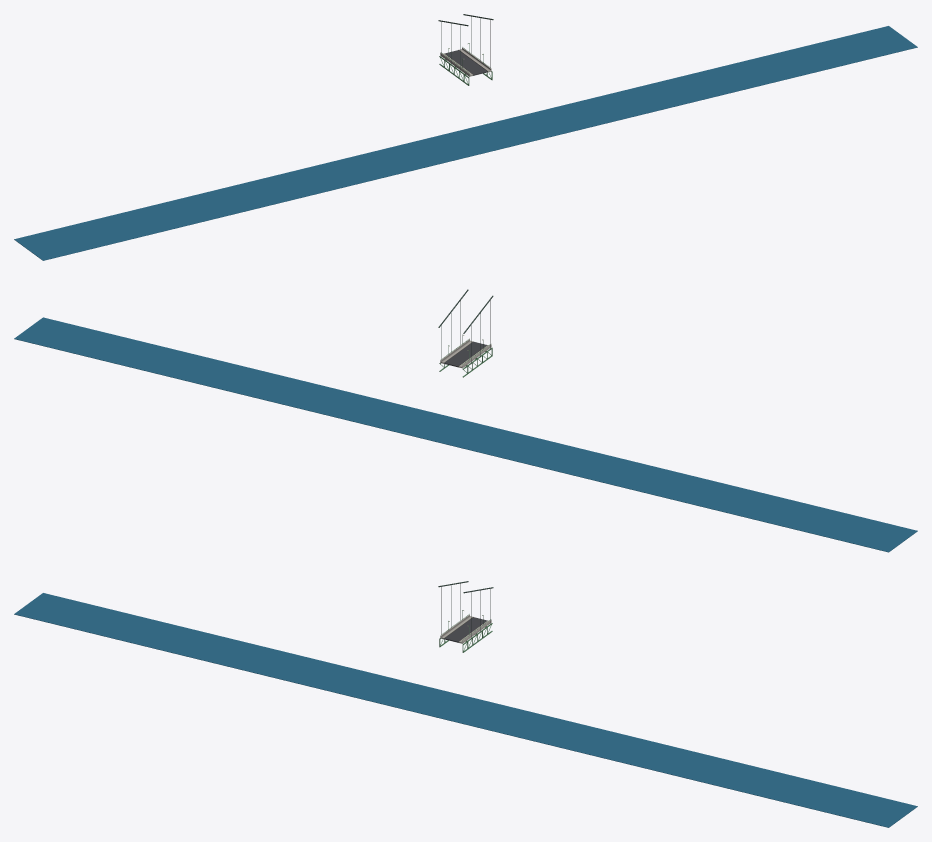
File: puente_amb_1.glb
The picture shows the model from 3 angles, top to bottom: view 1: azimuth 30°, elevation 25°; view 2: azimuth 150°, elevation 25°; view 3: azimuth 330°, elevation 25°; orthographic projection.
Visible parts, largest first — view 1: puente_amb_1; view 2: puente_amb_1; view 3: puente_amb_1.
Part boxes in pixels (left/top/right/bottom): puente_amb_1: left=14, top=14, right=917, bottom=260; puente_amb_1: left=14, top=289, right=917, bottom=552; puente_amb_1: left=14, top=581, right=917, bottom=827.
Size of the model in its own units: 520 by 75 by 30.24.
Materials: 1 (1 with a texture image).
